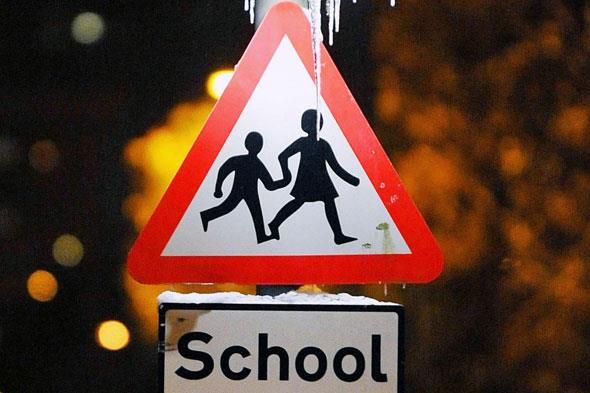road_sign_school: (116, 5, 440, 392)
